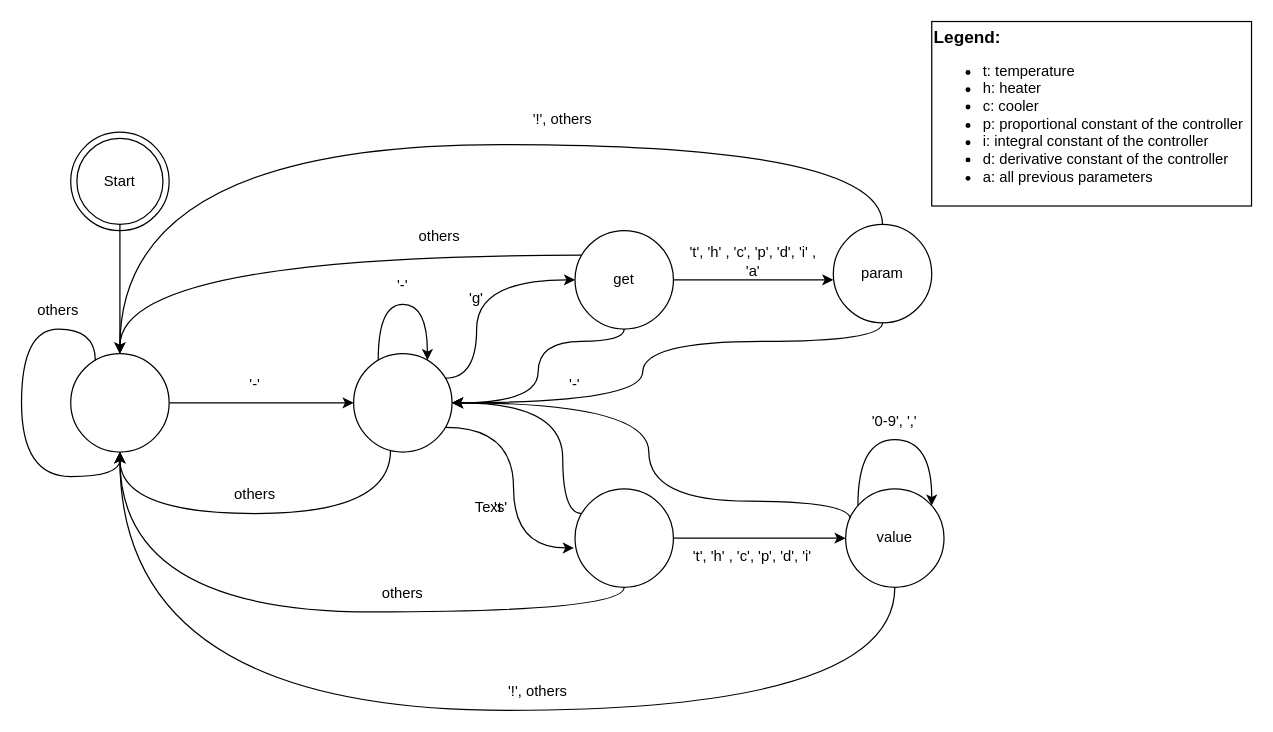
This 1273x732 diagram has some shape labels left out. The shapes that lost their labels are listed below. From the top down, each one's centre as x and y in pixels, then its label:
At [119,402]: "iddle".
At [402,402]: "ready".
At [623,537]: "set".
